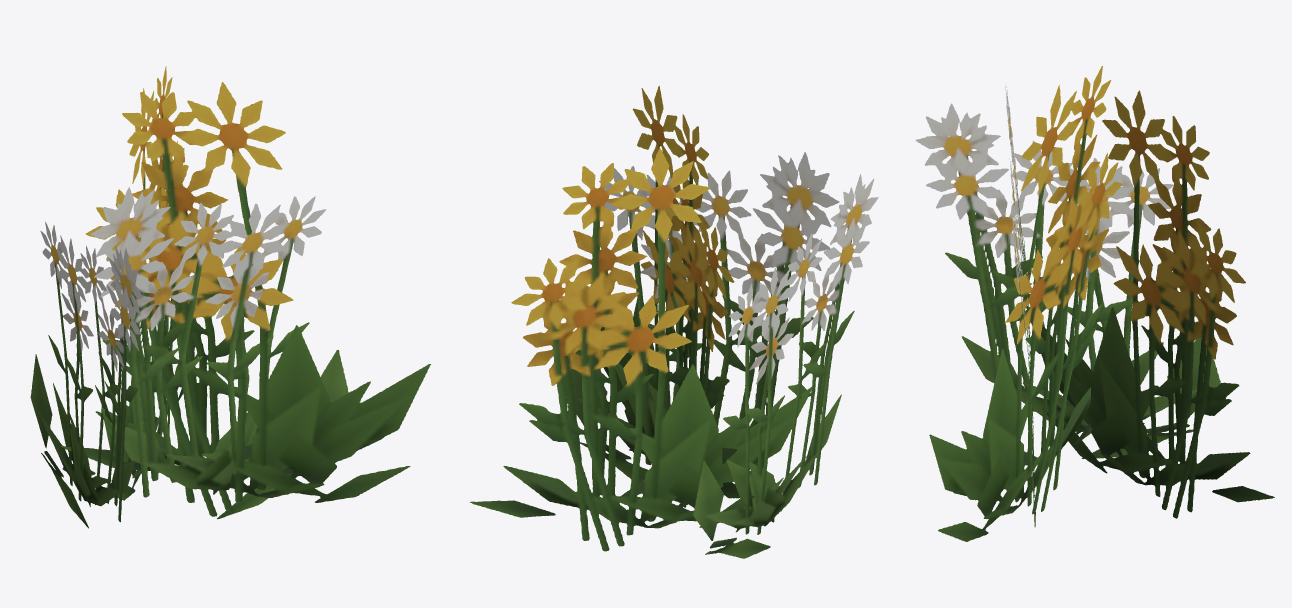
File: flowers.glb
The picture shows the model from 3 angles, left to right: view 1: azimuth 30°, elevation 25°; view 2: azimuth 150°, elevation 25°; view 3: azimuth 270°, elevation 25°; orthographic projection. The views are drawn at different scales.
Visible parts, largest first — view 1: flowers_mesh; view 2: flowers_mesh; view 3: flowers_mesh.
Part boxes in pixels (x1=…): flowers_mesh: x1=30, y1=66, x2=430, y2=528; flowers_mesh: x1=469, y1=85, x2=878, y2=558; flowers_mesh: x1=915, y1=66, x2=1274, y2=541.
Bounding box in the file's own units: 0.3448 × 0.4324 × 0.3303.
1 material, 1 textured.
